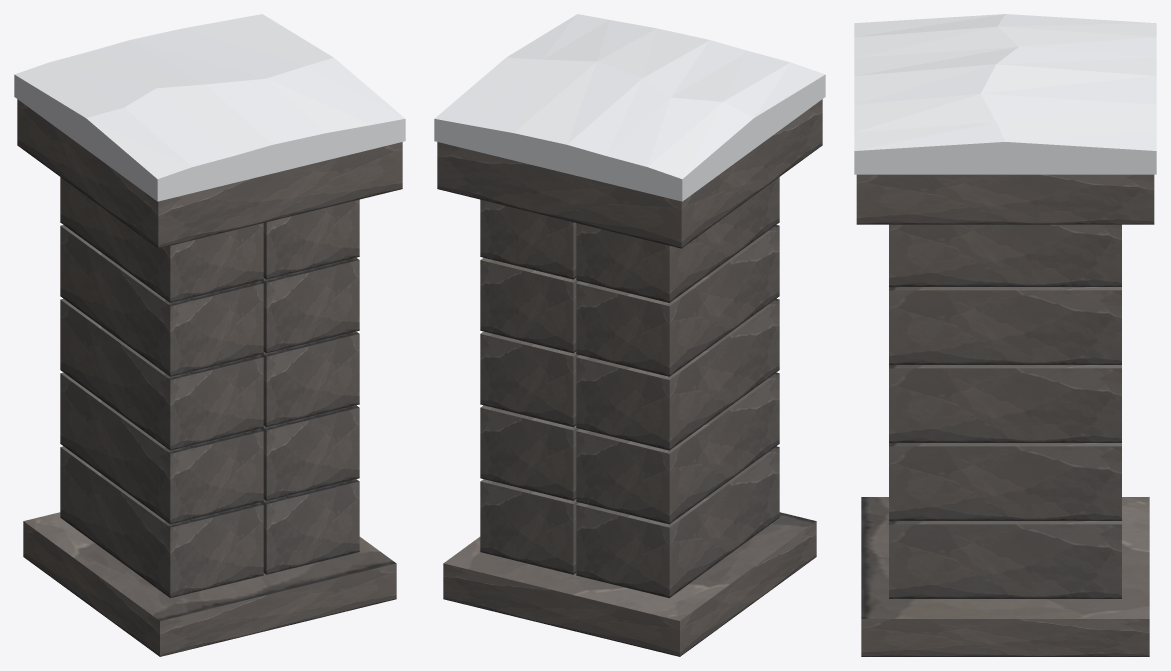
Rendered from masonry_pier_snow.glb.
3 renders of one model, left to right at view 1: azimuth 30°, elevation 25°; view 2: azimuth 150°, elevation 25°; view 3: azimuth 270°, elevation 25°, orthographic. The views are drawn at different scales.
Visible parts, largest first — view 1: winter_masonry_pier_snow; view 2: winter_masonry_pier_snow; view 3: winter_masonry_pier_snow.
Part boxes in pixels (box(x1,y1,x2,y2)): winter_masonry_pier_snow: box(14, 14, 405, 656); winter_masonry_pier_snow: box(434, 14, 825, 656); winter_masonry_pier_snow: box(854, 14, 1156, 656).
Size of the model in its own units: 0.65 by 1.25 by 0.65.
2 materials, 1 textured.
